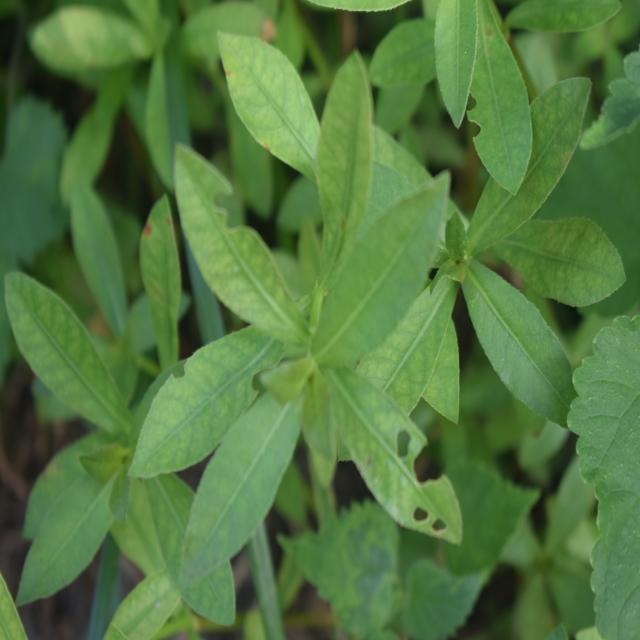Alligatorweed: (171, 125, 453, 568), (0, 230, 226, 612), (358, 54, 593, 414)
